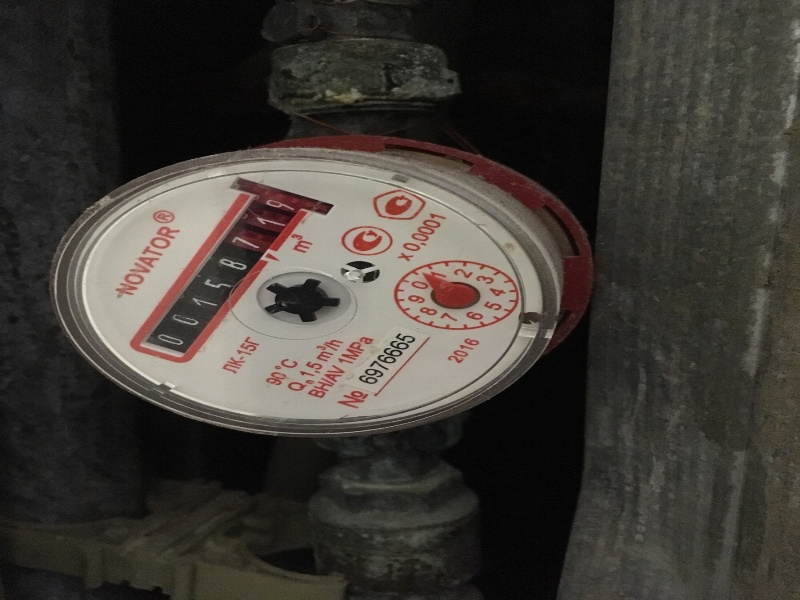meter: (198, 180, 274, 367)
